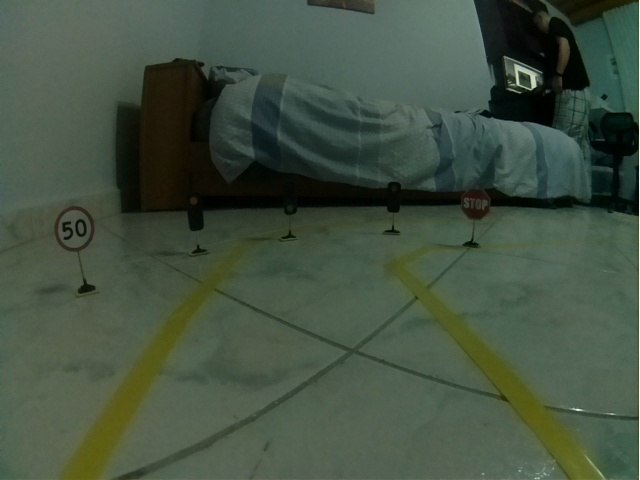Green Traffic Light: (283, 176, 297, 215)
Red Traffic Light: (186, 189, 204, 230), (387, 181, 401, 213)
Speed Limit 50: (55, 206, 95, 252)
Stop: (461, 188, 491, 220)
